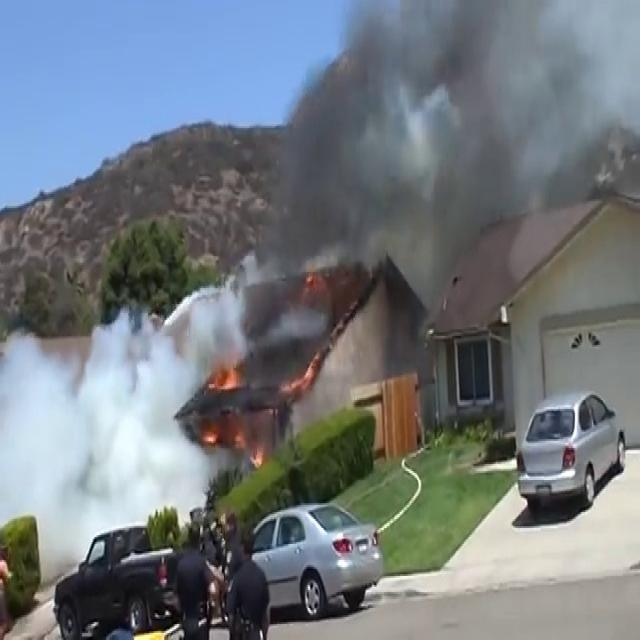Smoke: (216, 0, 640, 281), (0, 276, 247, 546)
